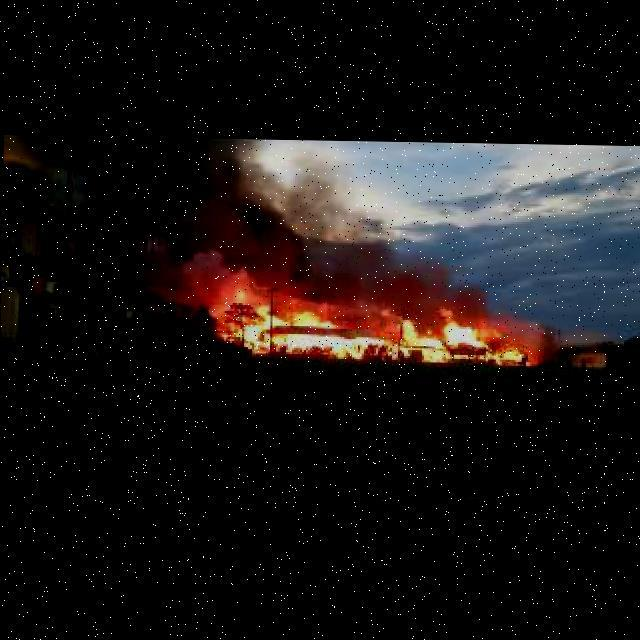Fire: (222, 290, 539, 364)
Smoke: (142, 137, 483, 311)
